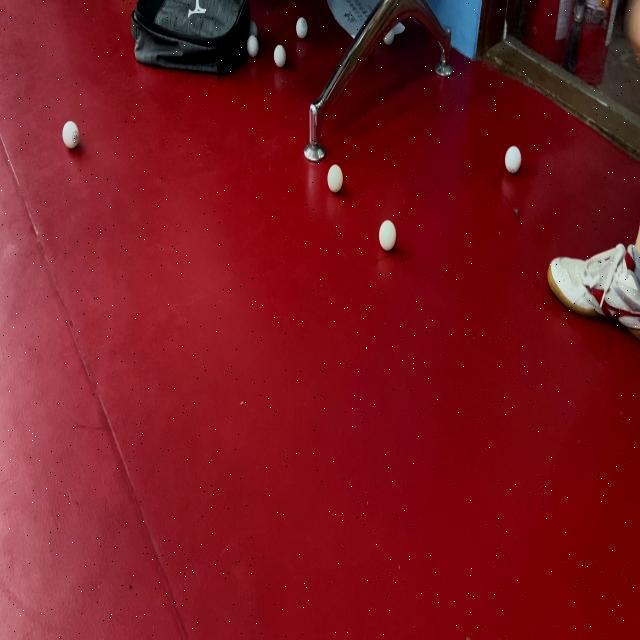ping-pong-ball: (60, 116, 82, 152), (378, 216, 398, 252), (325, 162, 344, 198), (504, 144, 524, 176), (294, 14, 308, 41), (273, 42, 287, 68), (246, 33, 260, 56)
